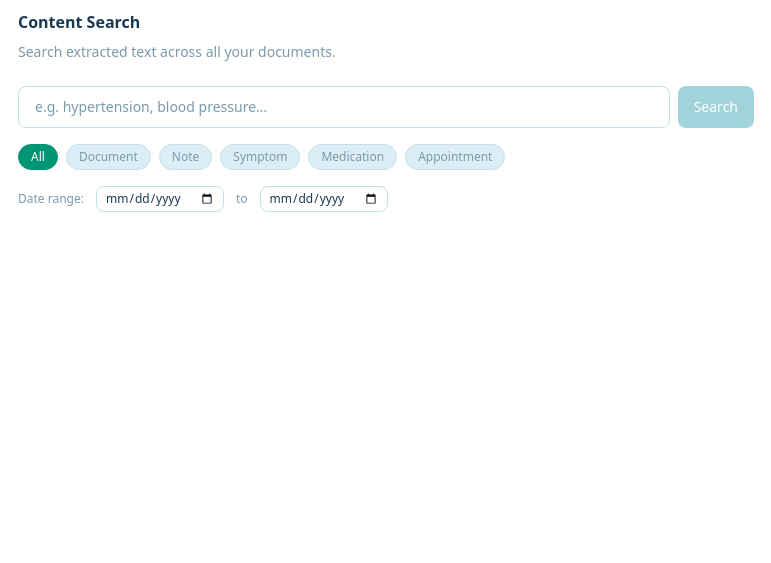
it: ContentSearchPage — entity-type filter chips › summary bar label is "Results" when no filter active
Type "fever" into the search field with test id "content-search-input" at (344, 107), box 18,86 -> 670,128
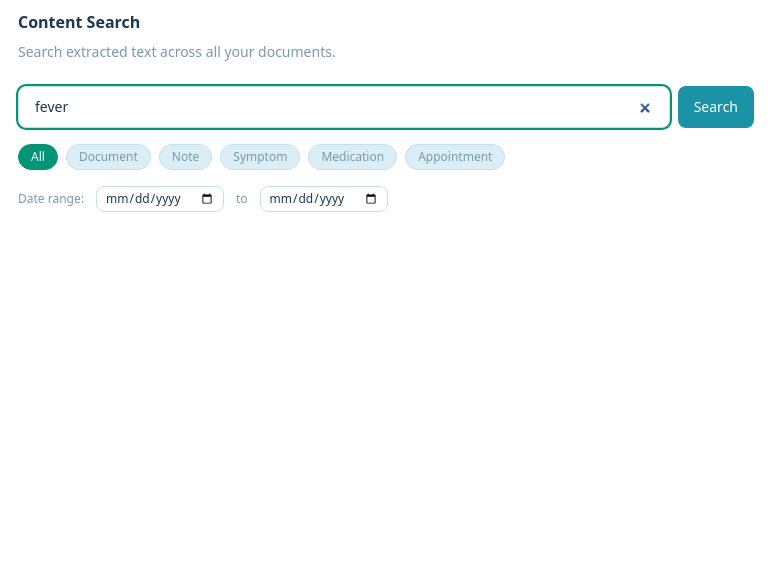
Press Enter
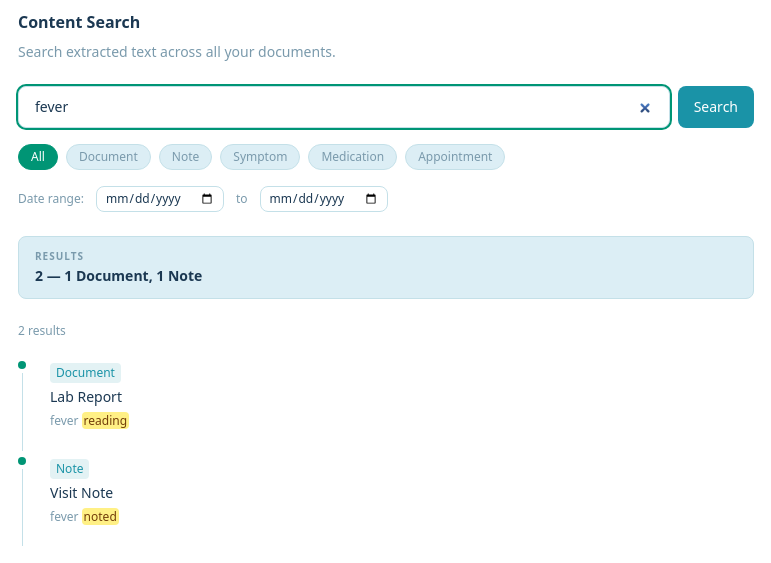
Expected: the text "Lab Report" is shown, 50,387 -> 122,406
Expected: the element with test id "summary-bar" shows "Results", 35,249 -> 84,263
